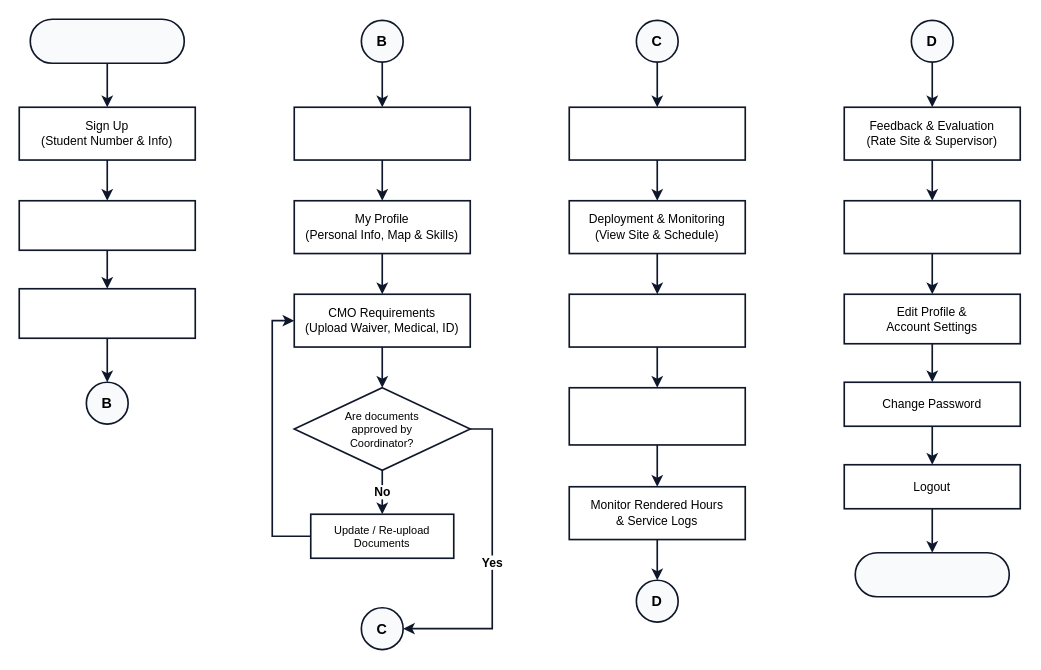
This 1041x670 diagram has some shape labels left out. Here are the shapes that lost their labels. From the top down, the box of each, then its label:
(29, 18, 185, 64): Start
(293, 106, 471, 160): Dashboard (Status Overview & Alerts)
(568, 106, 746, 160): Wait for DSS Auto-Matching
(18, 199, 196, 251): Verify Email OTP
(843, 199, 1021, 254): Track Rendered NOH (Confirm 54 Hours Met)
(18, 287, 196, 339): Login to Student Portal
(568, 293, 746, 347): Attend Community Fieldwork Activities
(568, 386, 746, 445): Community Official Logs Attendance (Time-In & Time-Out)
(854, 551, 1010, 597): End
